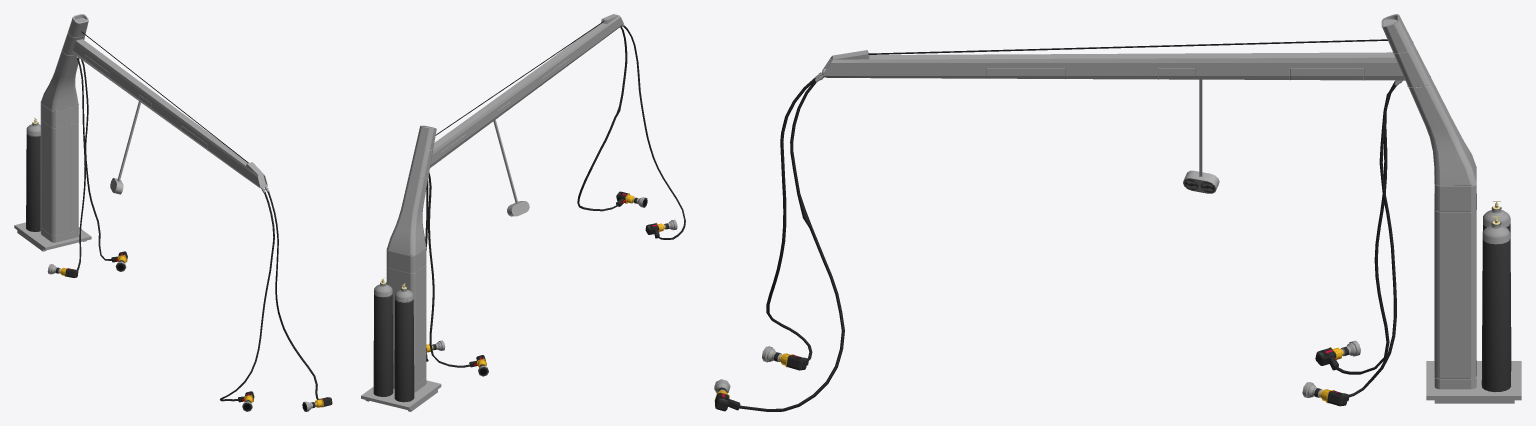
File: PitStop Equip01.fbx
3 views of the same model, side by side, from view 1: azimuth 30°, elevation 25°; view 2: azimuth 150°, elevation 25°; view 3: azimuth 270°, elevation 25° (orthographic). The views are drawn at different scales.
Parts seen in each view (by area): view 1: PitStop Equip01_NKit, PitStop Equip01_NKit_Wires, PSE_Cylinder1, PitStop Equip01_NKit_Pitguns, PitStop Equip01_NKit_Detail; view 2: PitStop Equip01_NKit, PSE_Cylinder2, PSE_Cylinder1, PitStop Equip01_NKit_Wires, PitStop Equip01_NKit_Pitguns; view 3: PitStop Equip01_NKit, PitStop Equip01_NKit_Wires, PSE_Cylinder2, PitStop Equip01_NKit_Pitguns, PitStop Equip01_NKit_Detail.
Boxes of the visible parts, box(x1,y1,x2,y2) form: PitStop Equip01_NKit: box(14, 14, 269, 251); PitStop Equip01_NKit_Wires: box(76, 58, 318, 401); PSE_Cylinder1: box(26, 117, 40, 231); PitStop Equip01_NKit_Pitguns: box(47, 251, 332, 411); PitStop Equip01_NKit_Detail: box(41, 31, 207, 235); PitStop Equip01_NKit: box(361, 14, 624, 411); PSE_Cylinder2: box(373, 278, 393, 396); PSE_Cylinder1: box(394, 283, 414, 402); PitStop Equip01_NKit_Wires: box(425, 25, 685, 367); PitStop Equip01_NKit_Pitguns: box(426, 191, 677, 376); PitStop Equip01_NKit: box(815, 14, 1521, 403); PitStop Equip01_NKit_Wires: box(739, 77, 1396, 411); PSE_Cylinder2: box(1481, 216, 1510, 391); PitStop Equip01_NKit_Pitguns: box(714, 340, 1360, 411); PitStop Equip01_NKit_Detail: box(986, 42, 1476, 379).
Bounding box in the file's own units: 0.5291 × 1.27 × 2.5.
